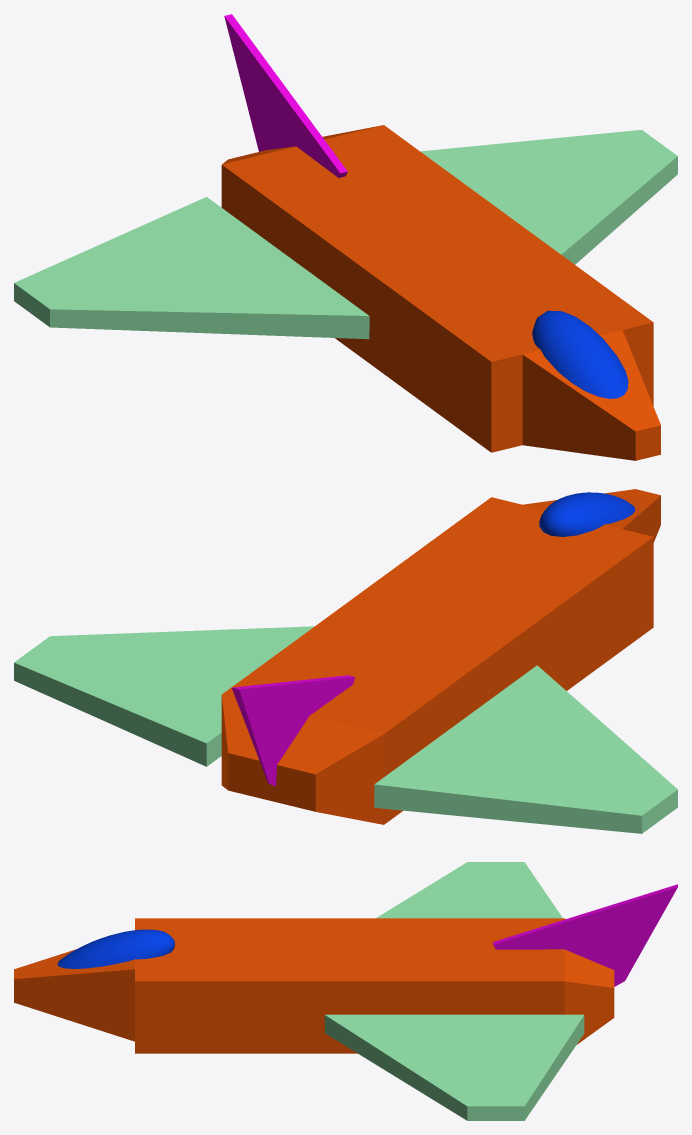
The model's file is player.fbx.
3 views of the same model, one above another, from view 1: azimuth 30°, elevation 25°; view 2: azimuth 150°, elevation 25°; view 3: azimuth 270°, elevation 25° (orthographic). The views are drawn at different scales.
Parts seen in each view (by area): view 1: pCube4; view 2: pCube4; view 3: pCube4.
Boxes of the visible parts, x1,y1,x2,y2 form: pCube4: (14, 14, 677, 460); pCube4: (14, 489, 677, 833); pCube4: (14, 862, 677, 1120).
Size of the model in its own units: 0.3982 by 0.1058 by 0.4575.
